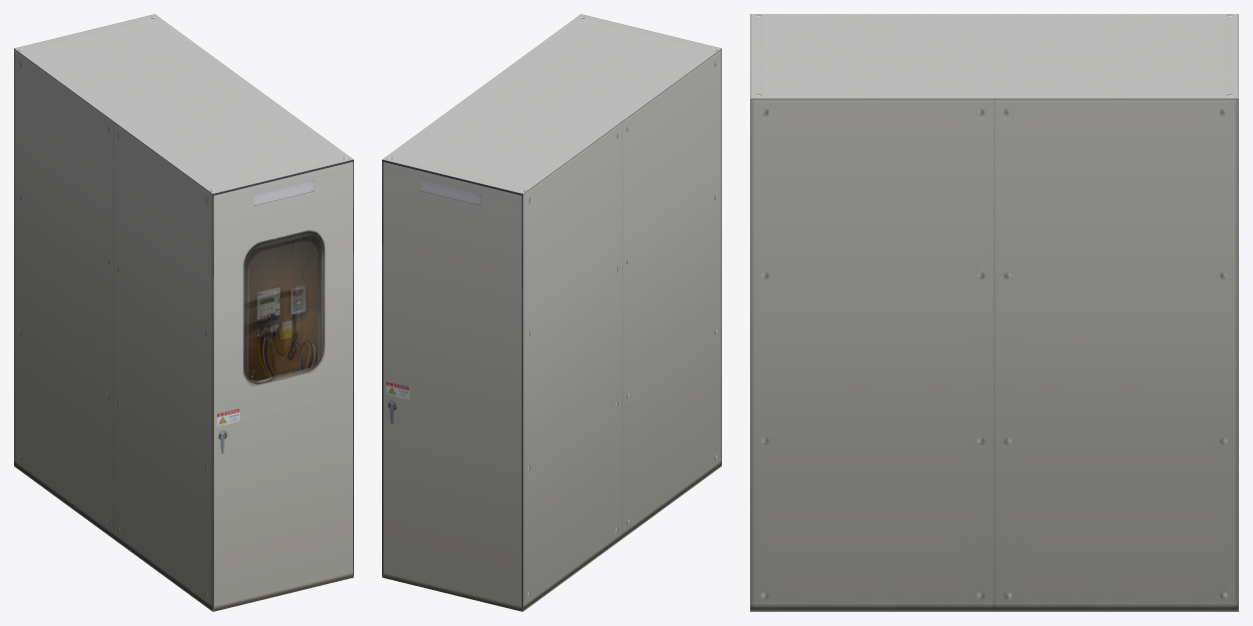
Rendered from SHV_MOF_01.gltf.
3 renders of one model, left to right at view 1: azimuth 30°, elevation 25°; view 2: azimuth 150°, elevation 25°; view 3: azimuth 270°, elevation 25°, orthographic. The views are drawn at different scales.
Visible parts, largest first — view 1: HV-H2; view 2: HV-H2; view 3: HV-H2.
Part boxes in pixels (bbox=[...]): HV-H2: bbox=[14, 14, 353, 611]; HV-H2: bbox=[382, 14, 721, 611]; HV-H2: bbox=[750, 14, 1238, 611].
Bounding box in the file's own units: 0.9 × 2.55 × 2.2.
1 material, 1 textured.
